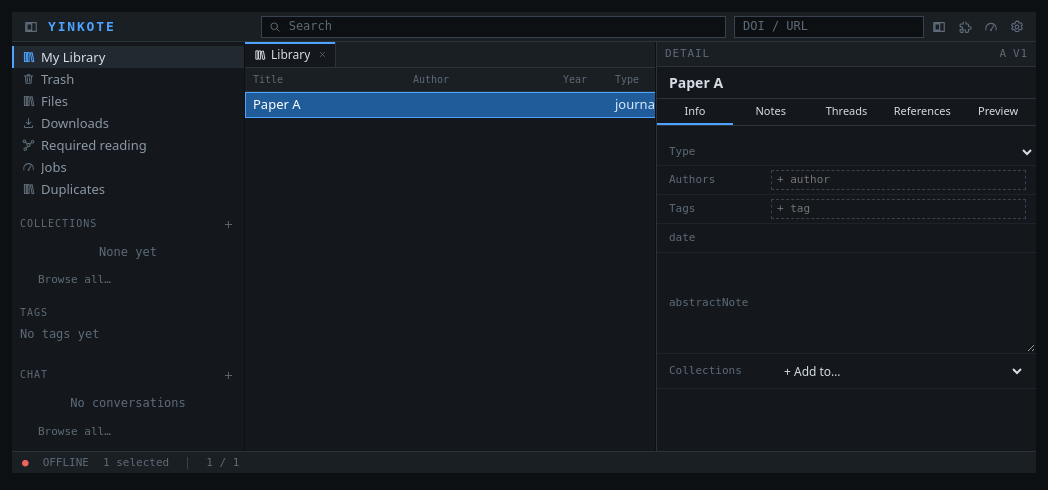
Test: the detail pane's tabs › does not label a section with the name of its own tab
Click the button with class "rail-tab" showing "Notes".
click(771, 112)  # box x1=733 y1=99 x2=809 y2=125
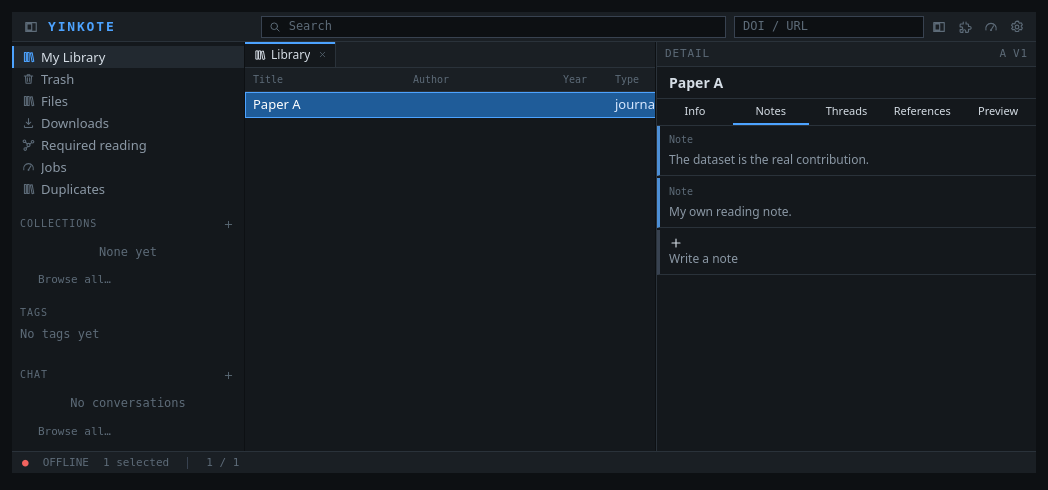
Result: the element with class "detail-section" is shown at x1=657 y1=126 x2=1036 y2=275
